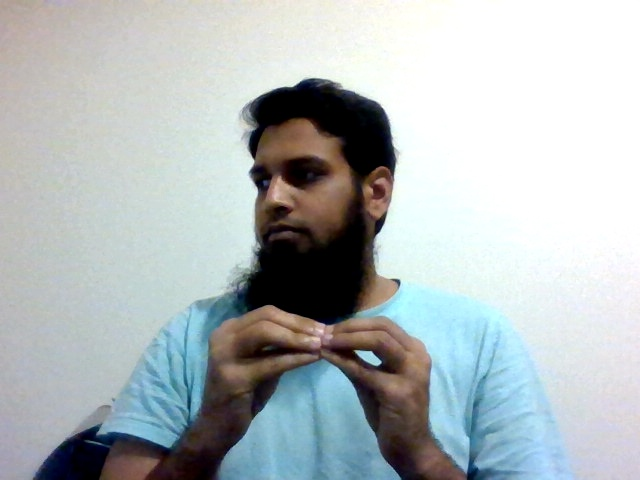more: (200, 302, 435, 455)
